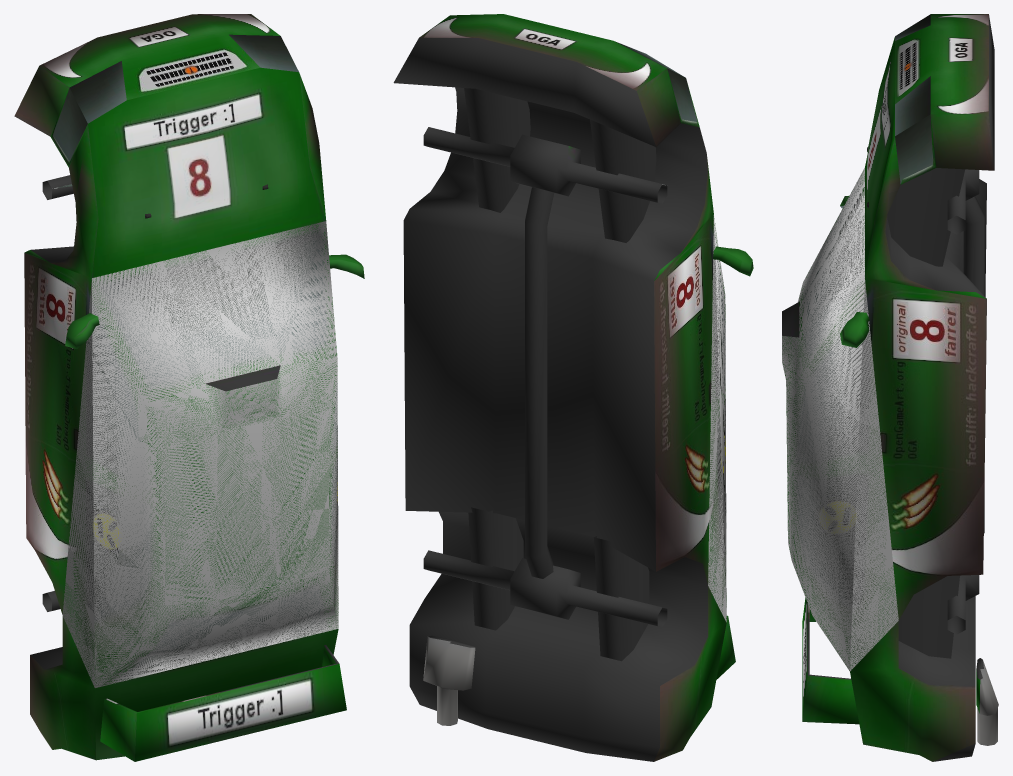
Rendered from evo_ase.obj.
3 views of the same model, side by side, from view 1: azimuth 30°, elevation 25°; view 2: azimuth 150°, elevation 25°; view 3: azimuth 270°, elevation 25° (orthographic). The views are drawn at different scales.
Parts seen in each view (by area): view 1: evo.ase.001; view 2: evo.ase.001; view 3: evo.ase.001.
Boxes of the visible parts, box(x1,y1,x2,y2) form: evo.ase.001: box(14, 14, 364, 761); evo.ase.001: box(393, 14, 753, 761); evo.ase.001: box(782, 14, 998, 761).
Size of the model in its own units: 2.05 by 4.5 by 1.34.
